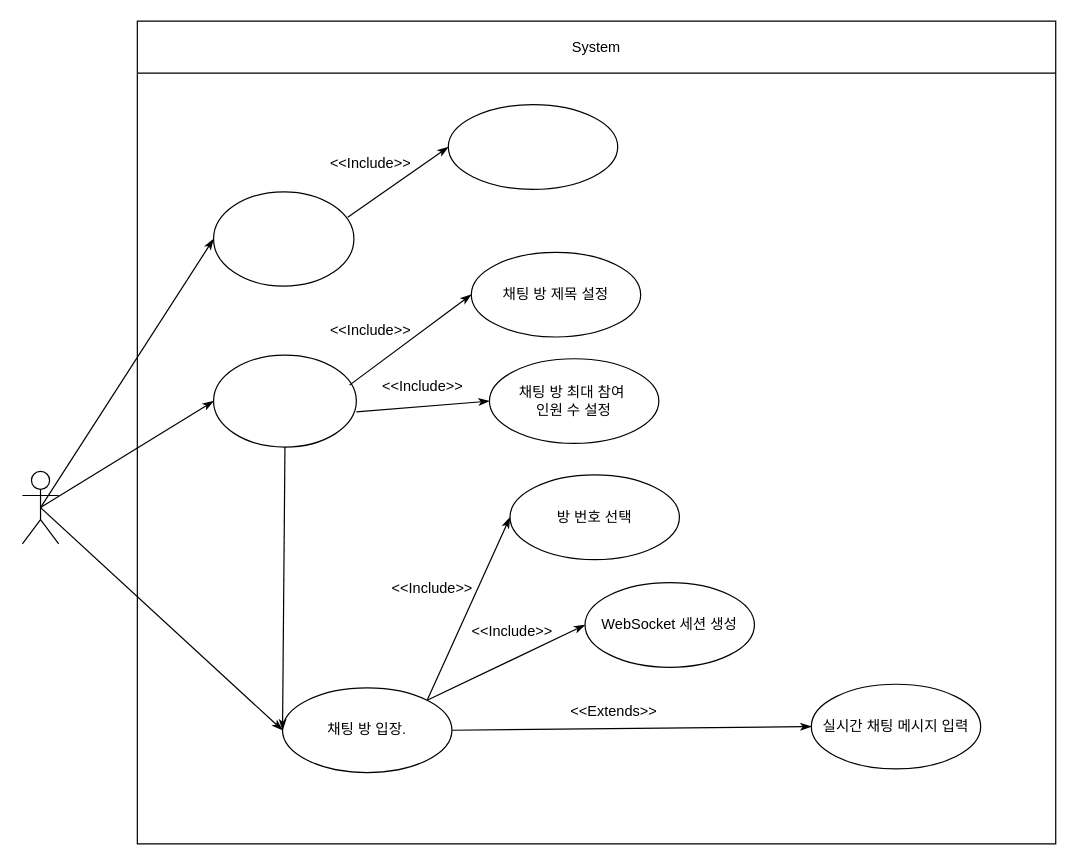
Image size: 1077x865. Some labels were removed from this diagram. The shapes that lost their labels are listed below. From the top down, each one's centre as x and y in pixels, then its label:
point 532,146: 사용자 닉네임 설정
point 283,238: 채팅방 목록 조회
point 284,400: 채팅 방 생성
point 40,507: 사용자
